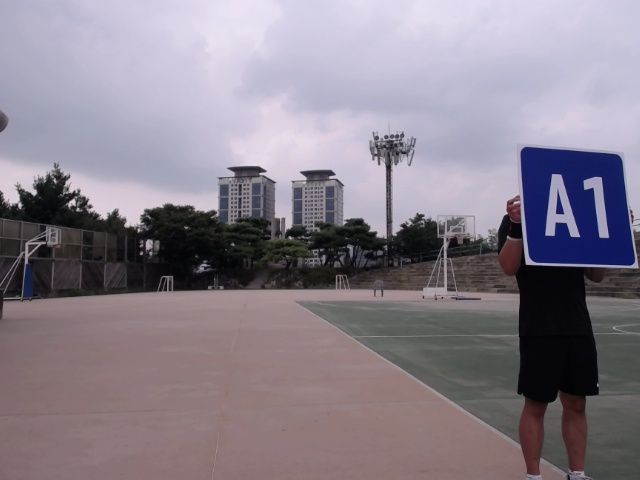delivery_a1: (520, 146, 636, 266)
